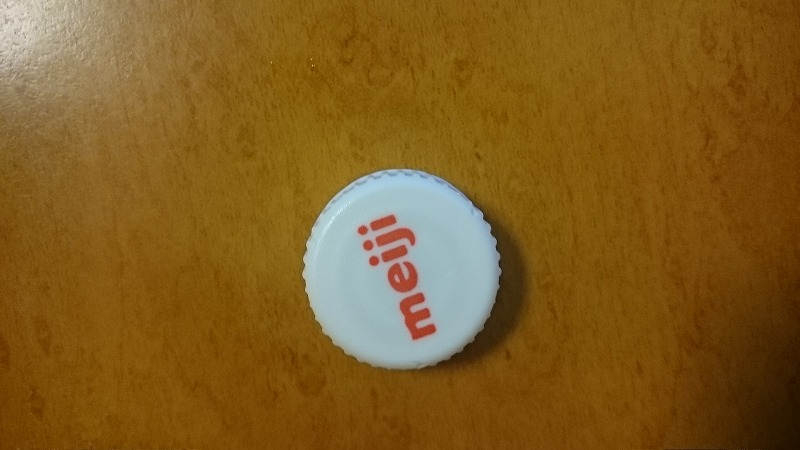B: (297, 168, 505, 373)
